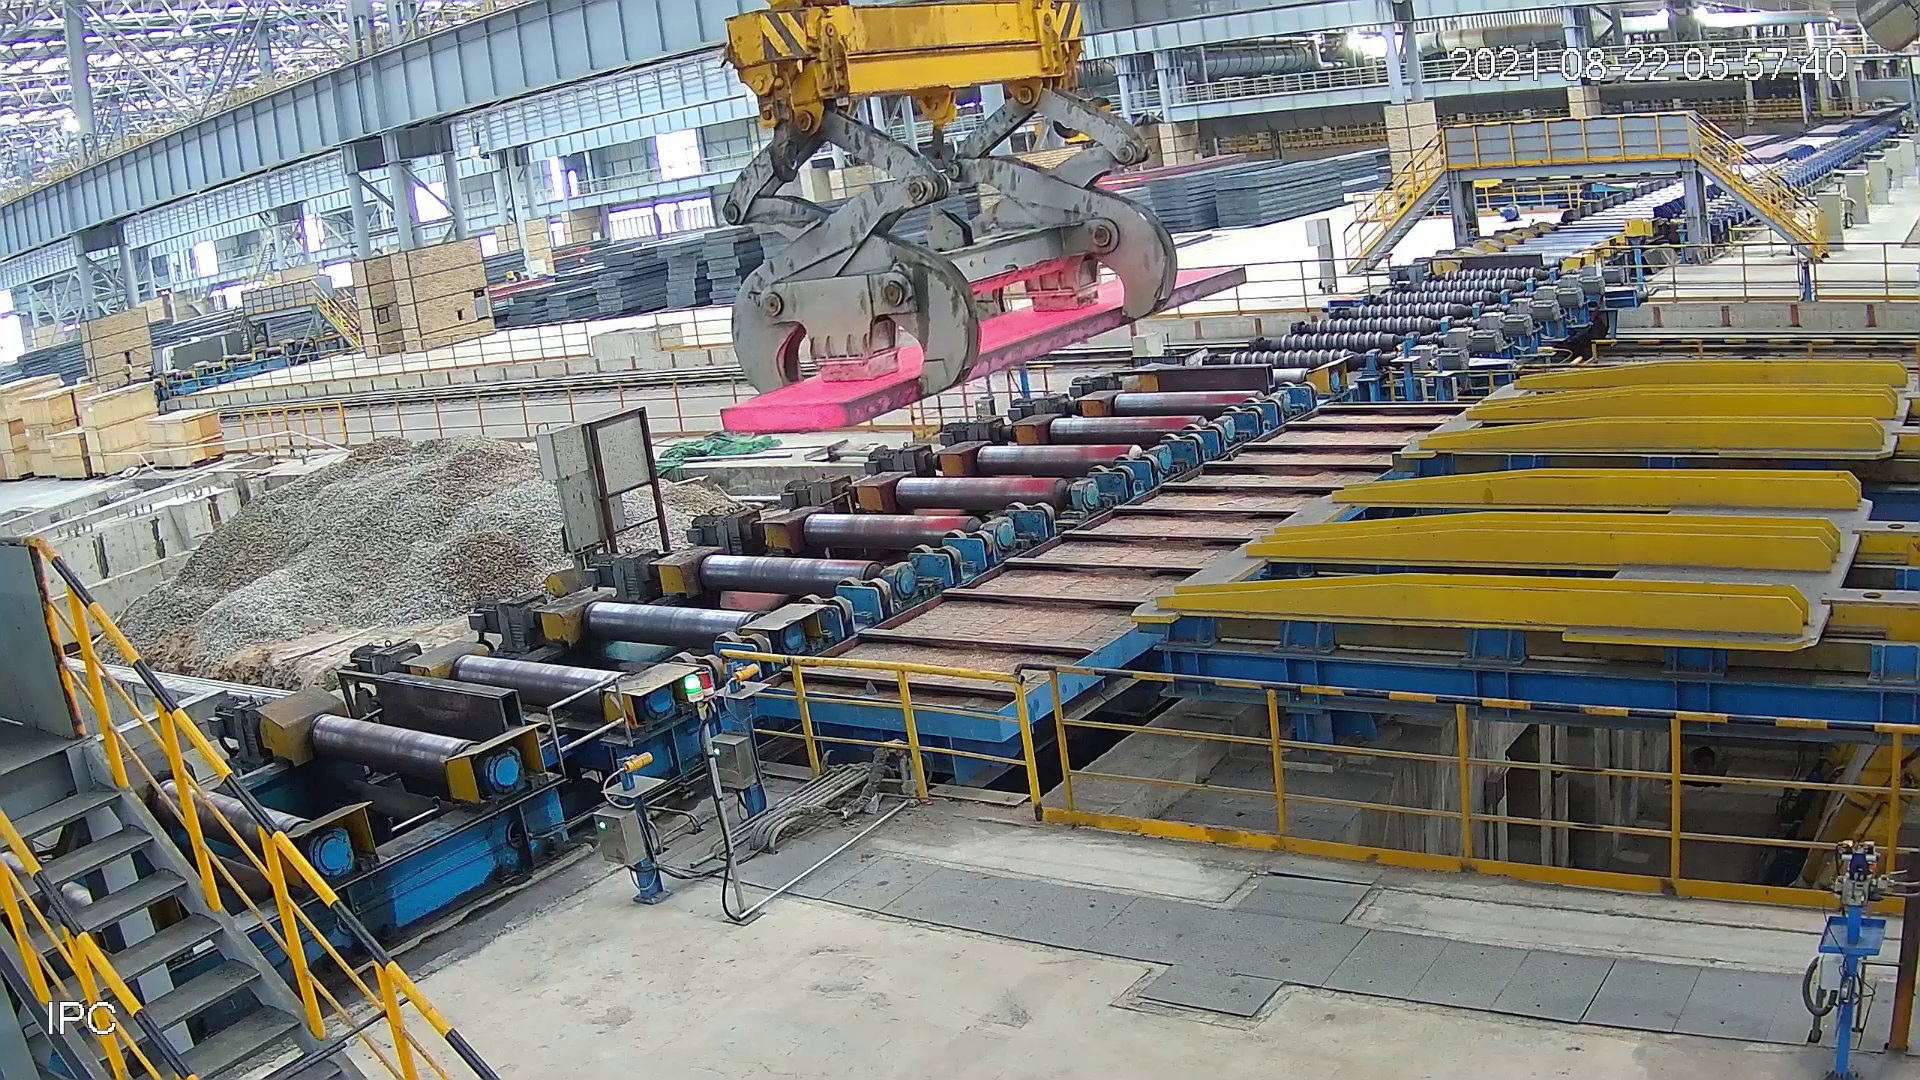craneandslab: (711, 7, 1247, 440)
